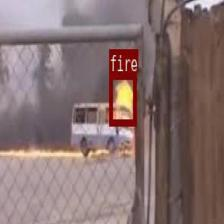fire: (108, 71, 135, 125)
